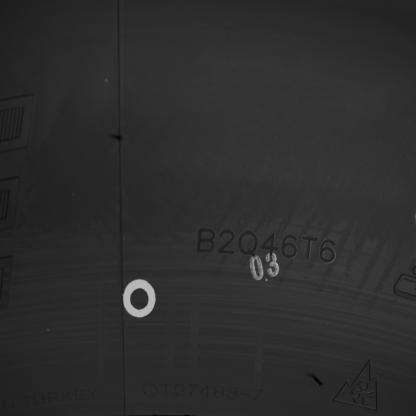ocr: (196, 226, 337, 264)
